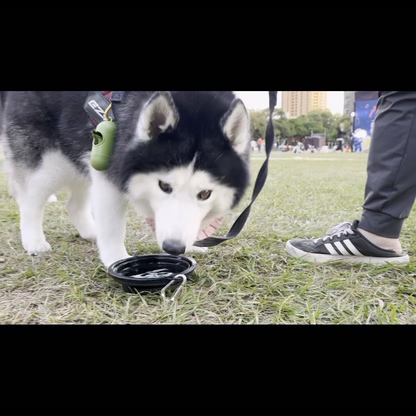husky: (1, 92, 265, 279)
